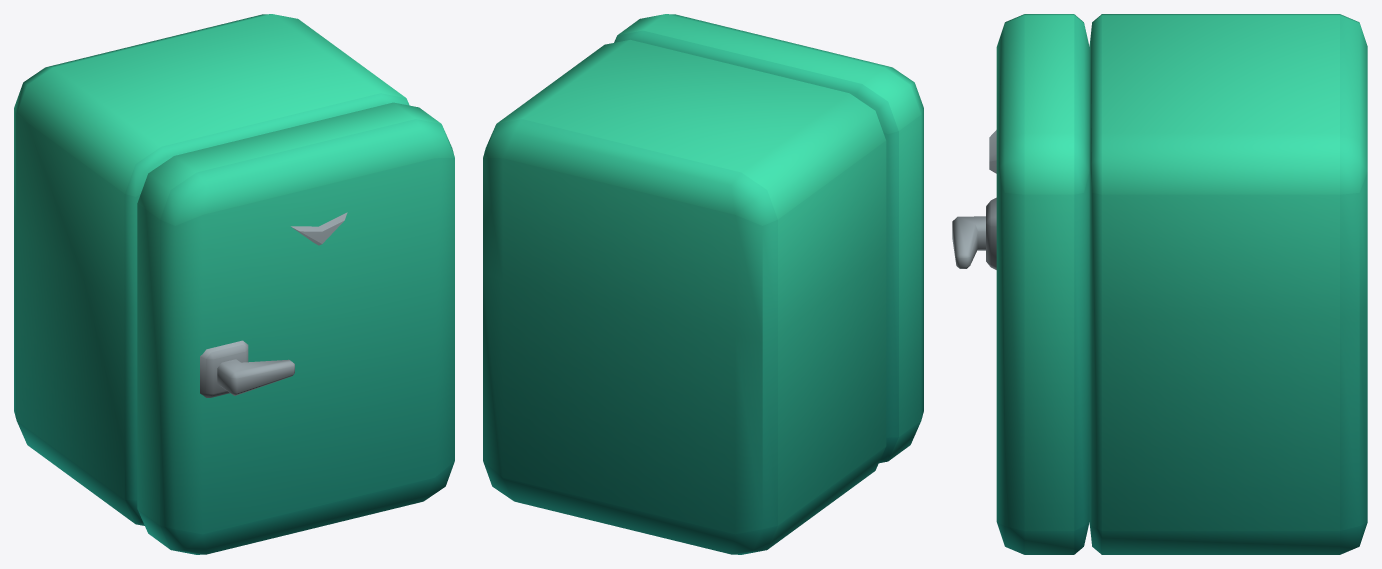
File: fridge_B.gltf
The picture shows the model from 3 angles, left to right: view 1: azimuth 30°, elevation 25°; view 2: azimuth 150°, elevation 25°; view 3: azimuth 270°, elevation 25°; orthographic projection. The views are drawn at different scales.
Visible parts, largest first — view 1: fridge_B_door, fridge_B; view 2: fridge_B, fridge_B_door; view 3: fridge_B, fridge_B_door.
Boxes of the visible parts, left/top/right/bottom form: fridge_B_door: left=137, top=102, right=454, bottom=554; fridge_B: left=14, top=14, right=409, bottom=525; fridge_B: left=483, top=39, right=886, bottom=554; fridge_B_door: left=614, top=14, right=923, bottom=463; fridge_B: left=1089, top=14, right=1367, bottom=554; fridge_B_door: left=952, top=14, right=1089, bottom=554.
Bounding box in the file's own units: 2 × 2.5 × 2.24.
1 material, 1 textured.
